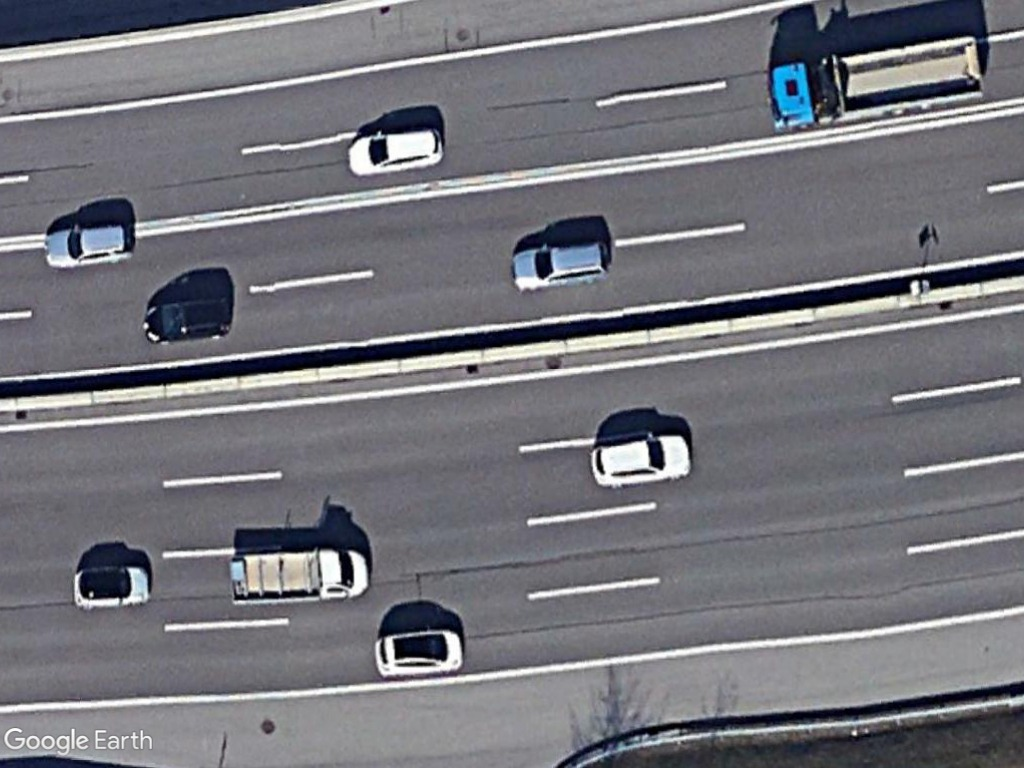car: (587, 434, 695, 490), (508, 237, 611, 294), (346, 126, 448, 178), (372, 627, 469, 681), (40, 218, 136, 270), (71, 564, 153, 612)
others: (767, 39, 991, 134), (225, 547, 372, 608)
